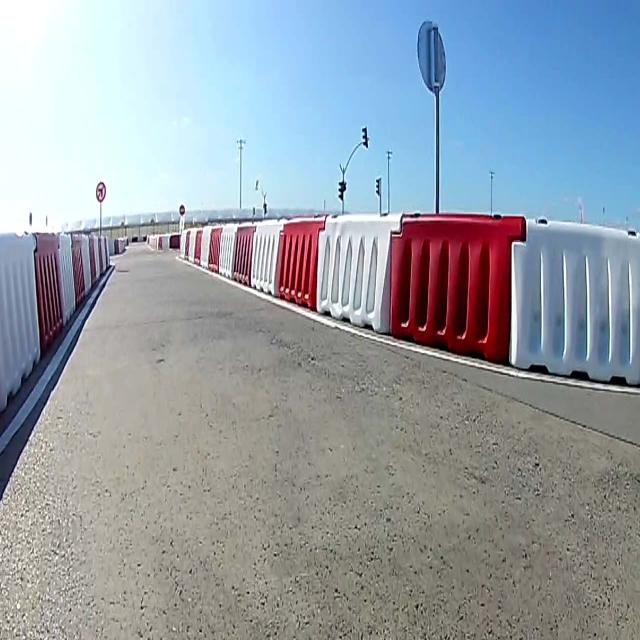soladonulmez: (98, 180, 106, 201)
